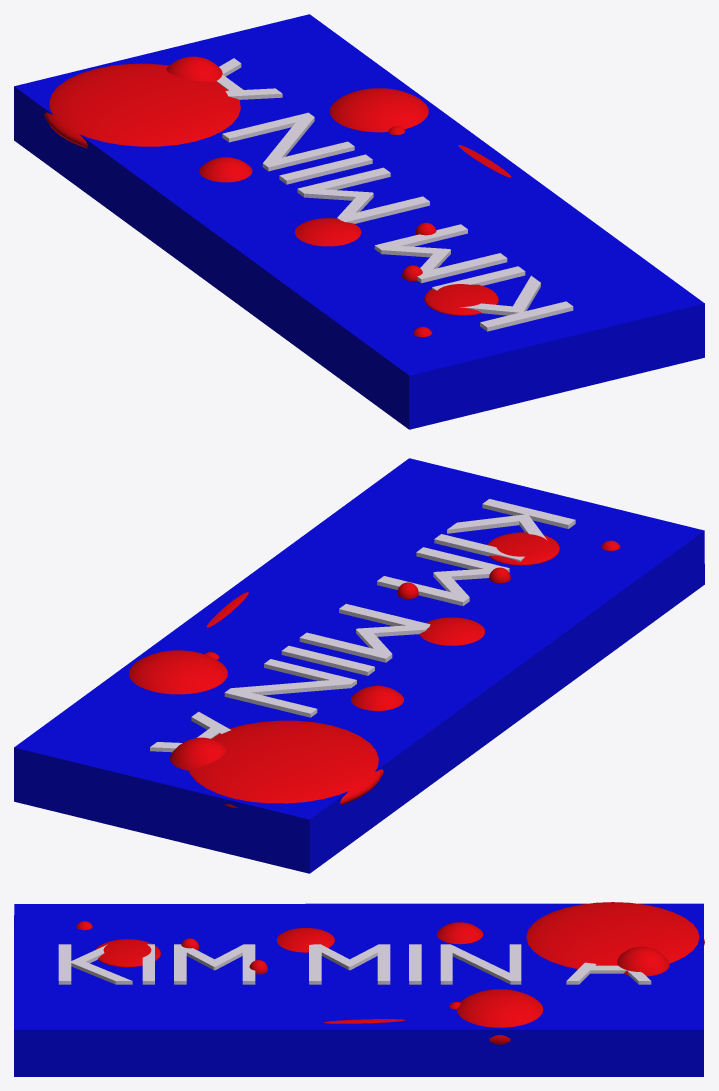
File: NameTag.fbx
3 renders of one model, top to bottom at view 1: azimuth 30°, elevation 25°; view 2: azimuth 150°, elevation 25°; view 3: azimuth 270°, elevation 25°, orthographic. The views are drawn at different scales.
Parts seen in each view (by area): view 1: Cube, Object, Sphere.002, Sphere.001, Sphere.004, Sphere.008, Sphere.003, Sphere; view 2: Cube, Object, Sphere.002, Sphere.001, Sphere.004, Sphere.008, Sphere.003, Sphere; view 3: Cube, Sphere.002, Object, Sphere.001, Sphere.004, Sphere.003, Sphere.008, Sphere, Sphere.009.
Part boxes in pixels (left/top/right/bottom): Cube: left=14, top=14, right=704, bottom=429; Object: left=216, top=58, right=573, bottom=331; Sphere.002: left=44, top=63, right=240, bottom=148; Sphere.001: left=329, top=88, right=428, bottom=132; Sphere.004: left=424, top=284, right=498, bottom=315; Sphere.008: left=295, top=218, right=361, bottom=246; Sphere.003: left=166, top=56, right=222, bottom=81; Sphere: left=199, top=157, right=252, bottom=182; Cube: left=14, top=458, right=704, bottom=873; Object: left=150, top=499, right=575, bottom=752; Sphere.002: left=189, top=720, right=383, bottom=808; Sphere.001: left=128, top=650, right=227, bottom=694; Sphere.004: left=487, top=532, right=559, bottom=565; Sphere.008: left=419, top=617, right=484, bottom=645; Sphere.003: left=169, top=737, right=226, bottom=770; Sphere: left=351, top=685, right=403, bottom=710; Cube: left=14, top=903, right=703, bottom=1076; Sphere.002: left=526, top=902, right=704, bottom=968; Object: left=58, top=944, right=651, bottom=984; Sphere.001: left=456, top=989, right=543, bottom=1044; Sphere.004: left=95, top=939, right=160, bottom=967; Sphere.003: left=617, top=946, right=669, bottom=976; Sphere.008: left=276, top=928, right=334, bottom=952; Sphere: left=436, top=922, right=483, bottom=944; Sphere.009: left=324, top=1019, right=404, bottom=1023.
Bounding box in the file's own units: 89.19 × 20.49 × 200.
